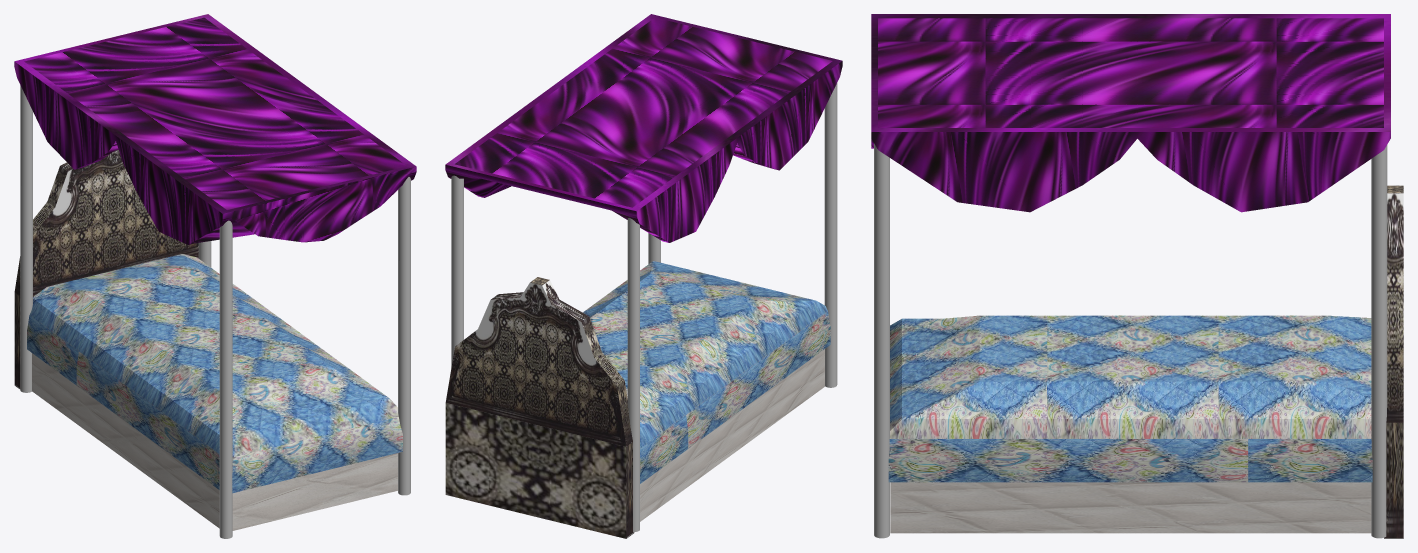
File: bed_model.fbx
3 renders of one model, left to right at view 1: azimuth 30°, elevation 25°; view 2: azimuth 150°, elevation 25°; view 3: azimuth 270°, elevation 25°, orthographic. The views are drawn at different scales.
Visible parts, largest first — view 1: pCube19; view 2: pCube19; view 3: pCube19.
Boxes of the visible parts, left/top/right/bottom form: pCube19: left=14, top=14, right=416, bottom=538; pCube19: left=445, top=14, right=842, bottom=538; pCube19: left=871, top=14, right=1403, bottom=538.
Bounding box in the file's own units: 0.1674 × 0.2717 × 0.3194.
